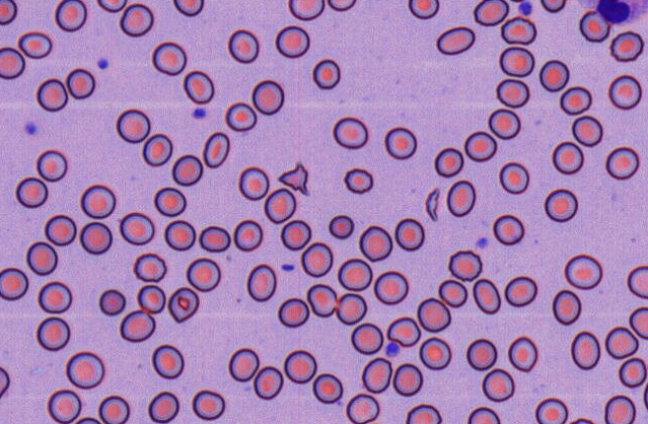LYM: (592, 0, 637, 26)
PLT: (515, 0, 533, 17), (386, 341, 403, 358), (95, 56, 111, 71), (475, 235, 490, 251), (25, 121, 39, 136), (190, 106, 206, 118)
RBC: (65, 351, 104, 389), (564, 253, 602, 289), (115, 108, 150, 143), (358, 225, 392, 261), (570, 330, 600, 370), (47, 388, 81, 423), (416, 297, 450, 332), (36, 316, 70, 351), (186, 257, 220, 292), (80, 184, 115, 218), (151, 41, 186, 75), (373, 270, 408, 304), (119, 211, 154, 245), (608, 74, 642, 109), (119, 309, 155, 342), (263, 187, 296, 223), (300, 241, 333, 277), (251, 79, 284, 115), (332, 116, 368, 149), (167, 286, 199, 323), (436, 25, 475, 55), (119, 2, 153, 36), (283, 349, 317, 383), (337, 258, 372, 291), (37, 280, 72, 313), (151, 344, 184, 379), (246, 263, 276, 301), (604, 326, 638, 359), (481, 368, 514, 402), (275, 25, 309, 58), (605, 146, 639, 179), (544, 188, 577, 222), (361, 357, 392, 393), (507, 335, 537, 372), (446, 179, 475, 217), (79, 221, 112, 254), (384, 126, 417, 159), (448, 249, 482, 281), (419, 336, 451, 370), (227, 29, 259, 63), (500, 15, 536, 45), (36, 78, 68, 111), (350, 322, 383, 354), (306, 283, 337, 317), (228, 347, 259, 381), (26, 241, 57, 275), (191, 389, 225, 420), (610, 30, 644, 61), (238, 166, 269, 200), (183, 70, 214, 104), (552, 140, 583, 174), (499, 46, 534, 76), (552, 289, 581, 325), (335, 292, 367, 324), (171, 154, 203, 186), (147, 391, 179, 423), (392, 363, 423, 396), (163, 219, 196, 250), (504, 275, 537, 306), (498, 161, 529, 194), (464, 130, 497, 161), (345, 393, 379, 423), (495, 78, 529, 108), (253, 365, 283, 399), (394, 217, 424, 251), (472, 278, 500, 314), (202, 131, 229, 168), (579, 10, 610, 42), (54, 0, 86, 31), (15, 176, 47, 207), (36, 149, 67, 181), (571, 115, 603, 146), (44, 214, 76, 245), (488, 108, 520, 139), (466, 338, 497, 370), (492, 214, 524, 245), (133, 252, 166, 282), (153, 186, 186, 216), (559, 85, 592, 115), (142, 133, 172, 166), (280, 219, 311, 250), (277, 297, 309, 327), (539, 59, 569, 91), (233, 219, 263, 251), (17, 31, 52, 58), (473, 0, 509, 26), (65, 68, 95, 99), (312, 373, 343, 403), (225, 101, 256, 131), (604, 394, 636, 423), (0, 267, 28, 300), (136, 284, 165, 314), (434, 147, 463, 177), (98, 395, 129, 423), (312, 58, 340, 89), (198, 225, 230, 252), (535, 397, 568, 423), (438, 278, 467, 307), (618, 357, 646, 387), (0, 46, 25, 79), (343, 167, 373, 194), (98, 288, 126, 315), (405, 403, 441, 423), (288, 0, 324, 20), (627, 265, 647, 298), (328, 214, 354, 239), (629, 306, 647, 339), (408, 0, 439, 19), (467, 406, 500, 423), (173, 0, 203, 16), (0, 0, 17, 24), (96, 0, 127, 12), (0, 366, 10, 398), (327, 0, 356, 11), (540, 0, 566, 12), (74, 416, 101, 423), (569, 417, 594, 423), (643, 382, 648, 410)
Schistocyte: (275, 164, 311, 196), (386, 315, 420, 346), (425, 186, 440, 222)
